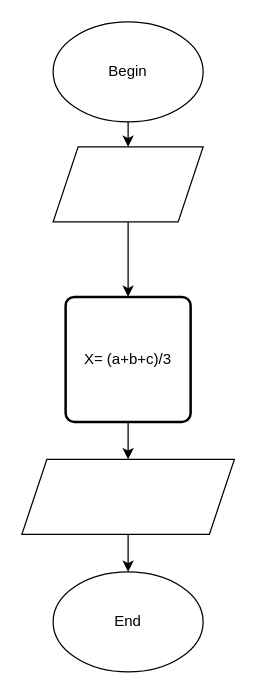
Image size: 256x694. Some labels were removed from this diagram. The shapes that lost their labels are listed below. From the top down, each one's centre as x and y in pixels, then its label:
point (127, 184): Input a,b,c
point (127, 496): Output "Diem trung binh la "X""
